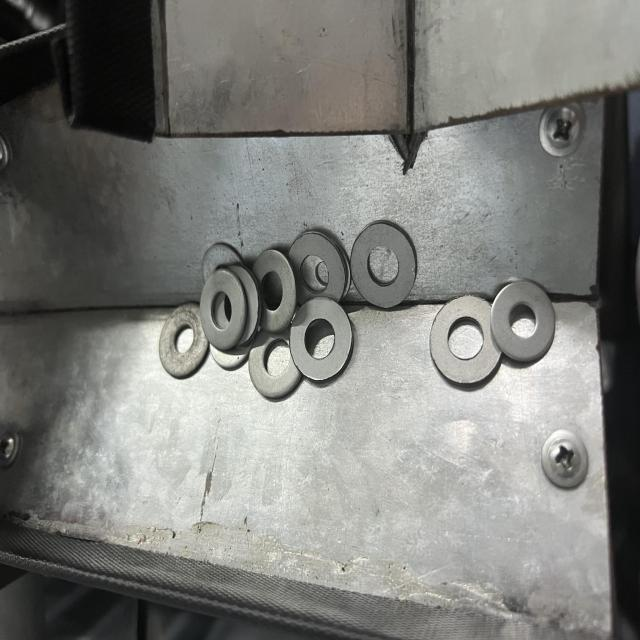washer: (489, 276, 558, 366), (350, 220, 418, 310), (288, 295, 353, 384), (200, 268, 244, 350)
